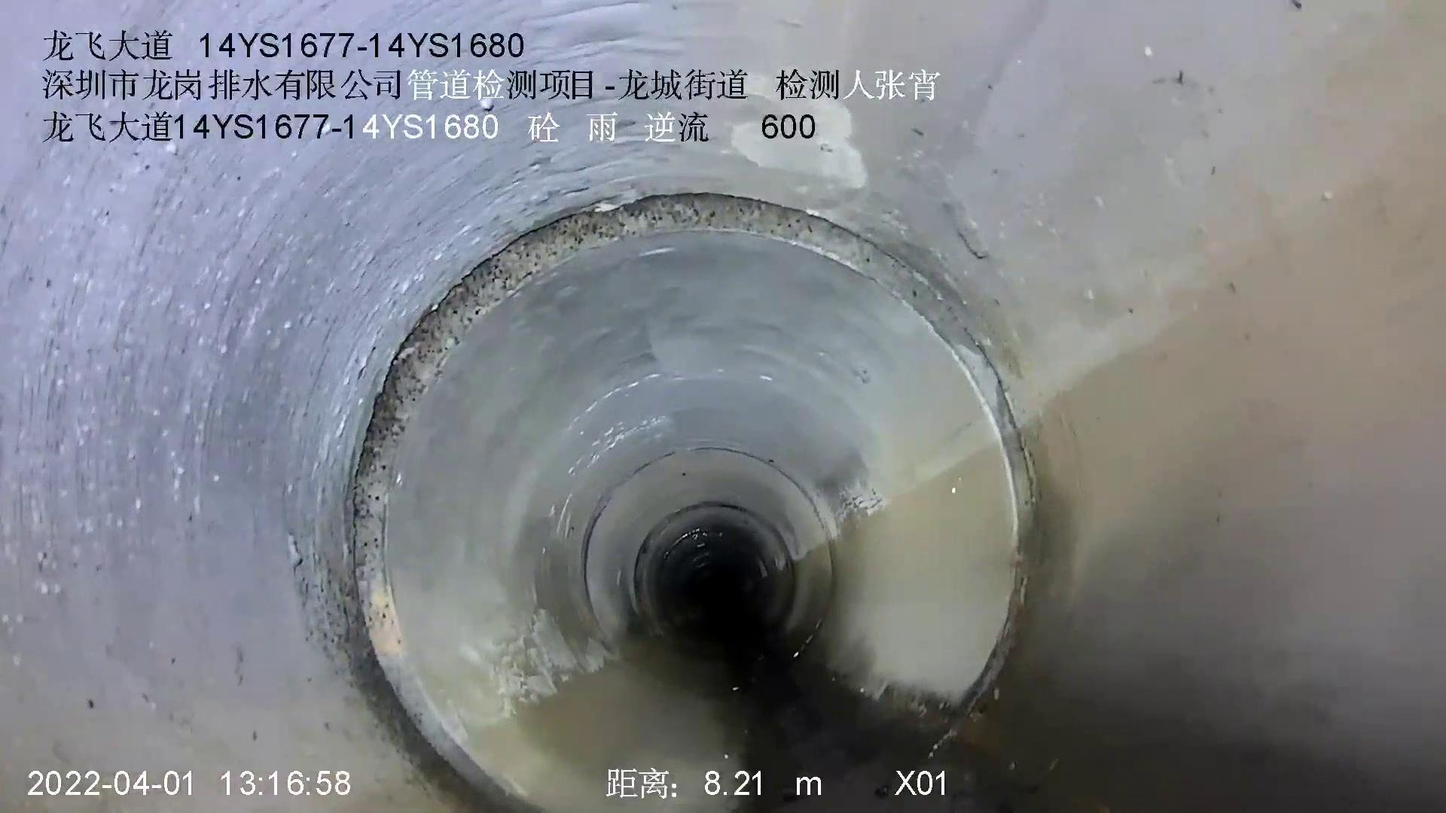CKTJ: (352, 193, 1037, 812)
